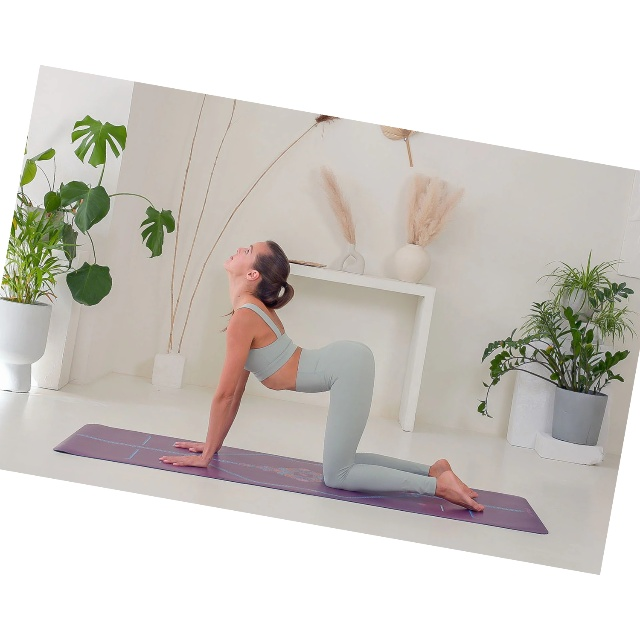Cow_Pose: (159, 241, 485, 511)
